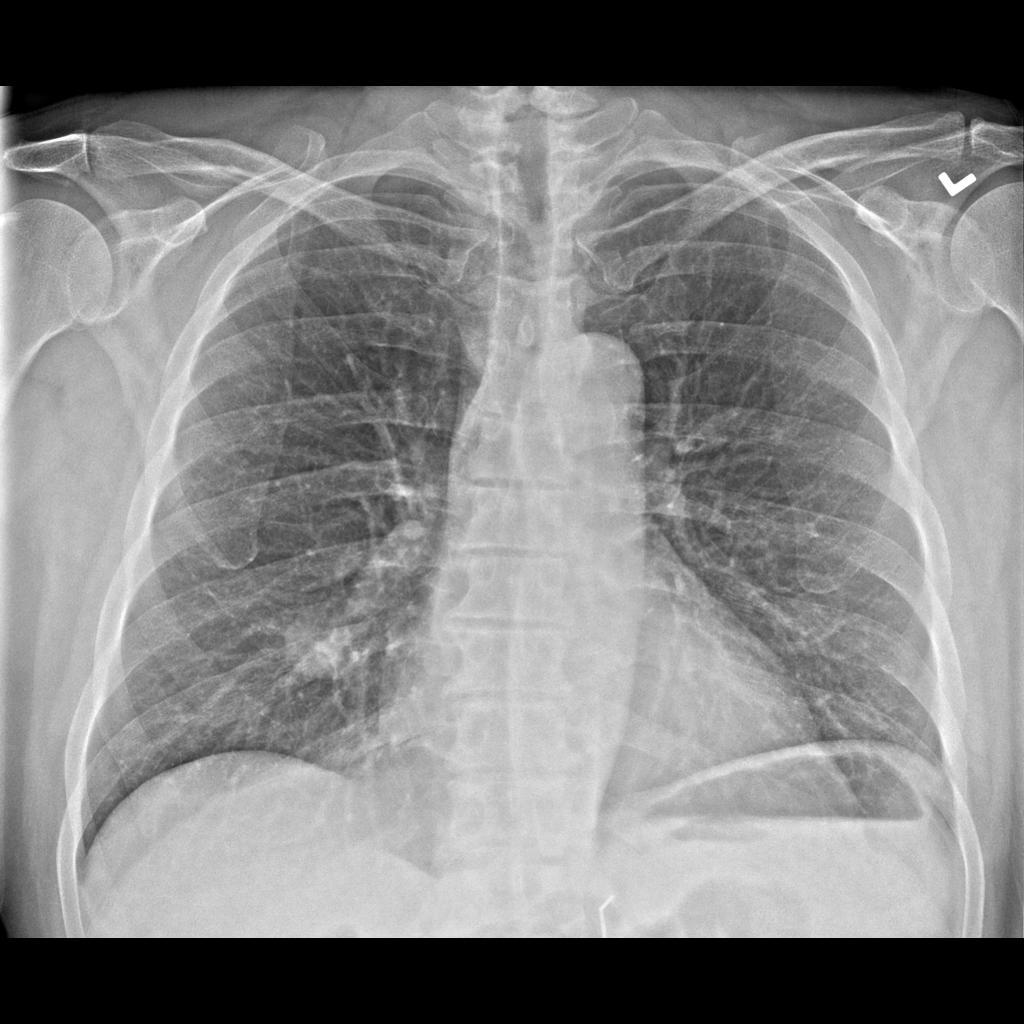Nodule: (285, 603, 375, 681)
